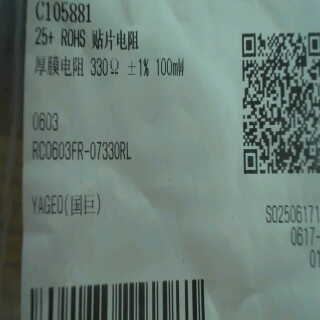330R: (89, 55, 122, 80)
